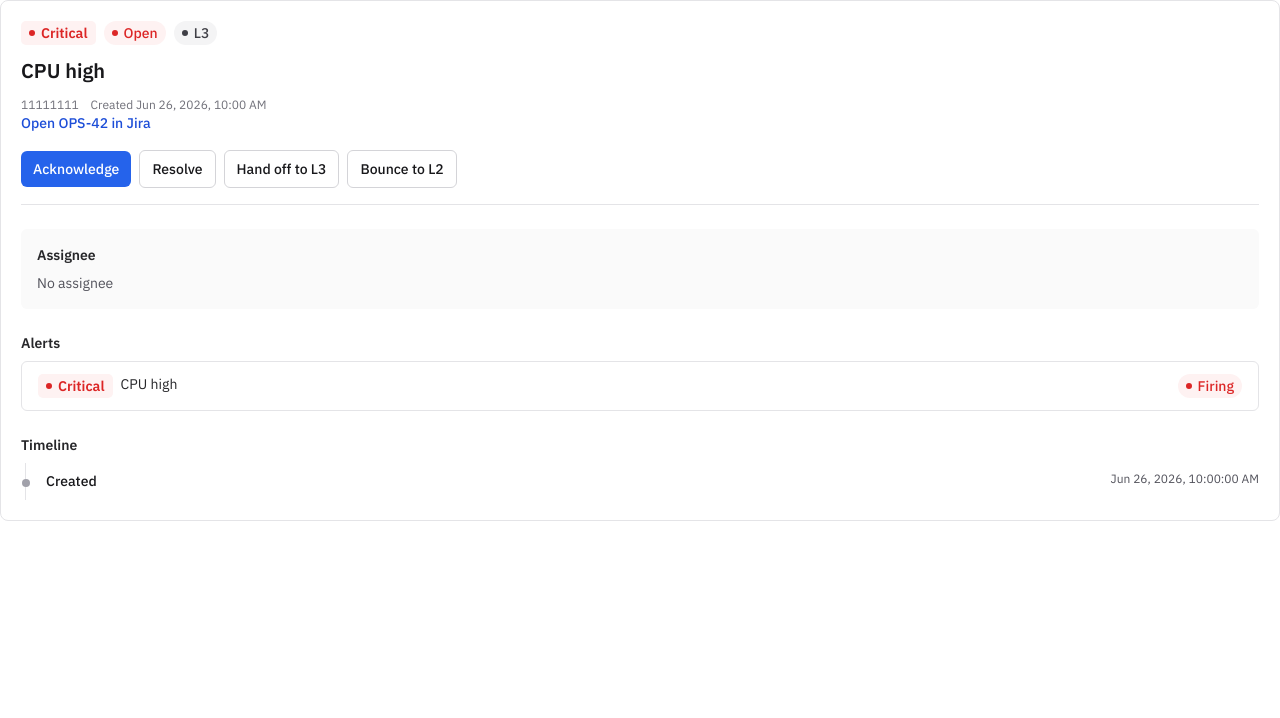
IncidentDetail › shows a failed action and retains the bounce note
Click the button "Bounce to L2" at (402, 169), box [348,150,457,188]
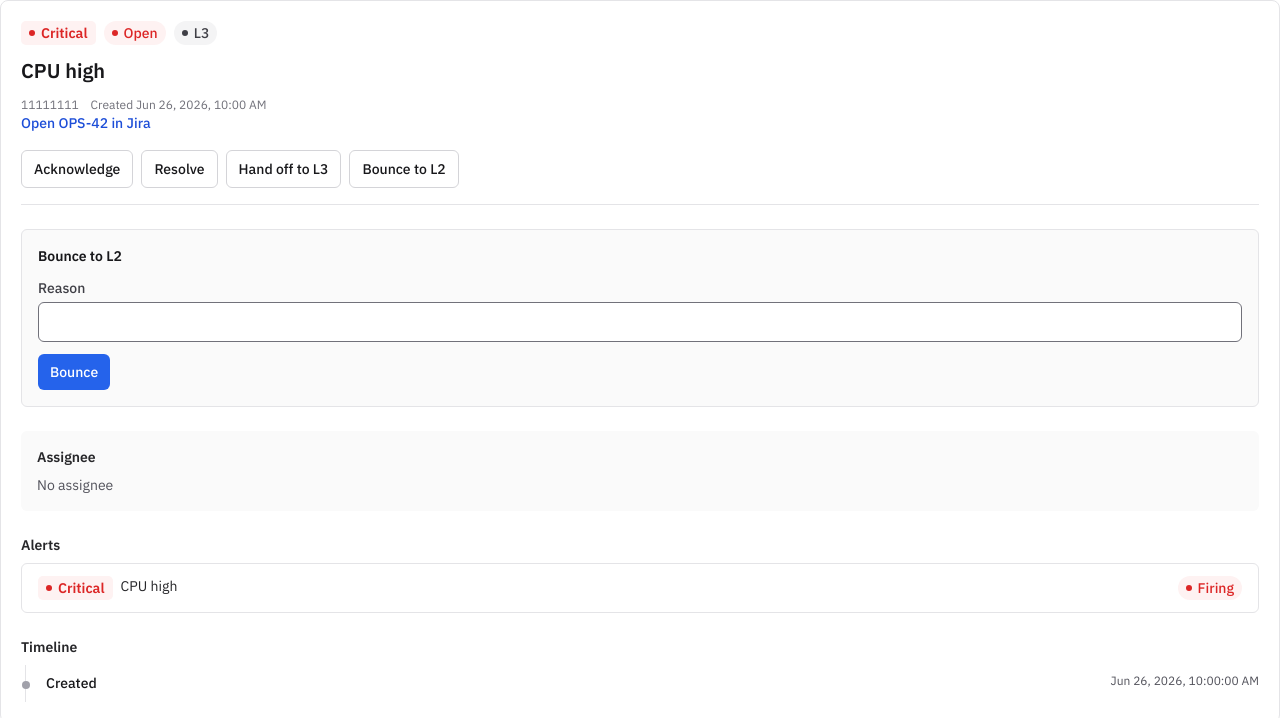
Type "Need more logs" into the field labelled "Reason" at (640, 322), box [38,302,1242,342]
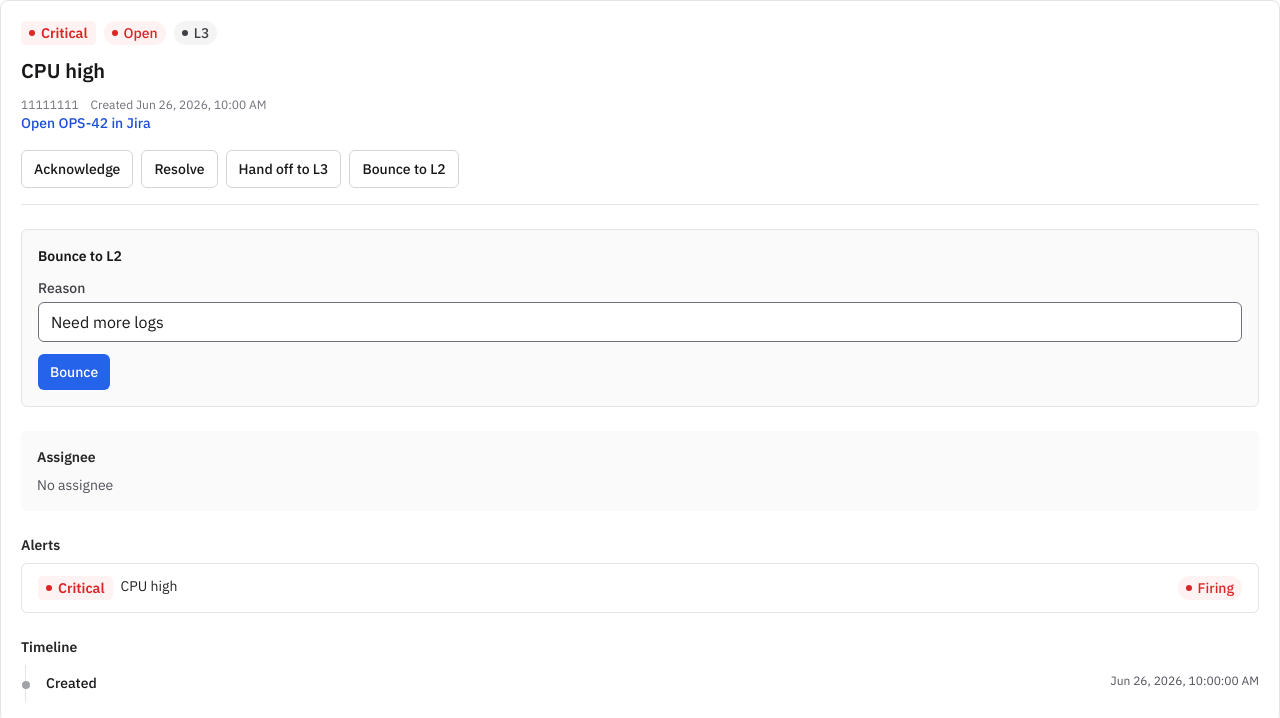
Click the button "Bounce" at (74, 372), box [38,354,110,390]
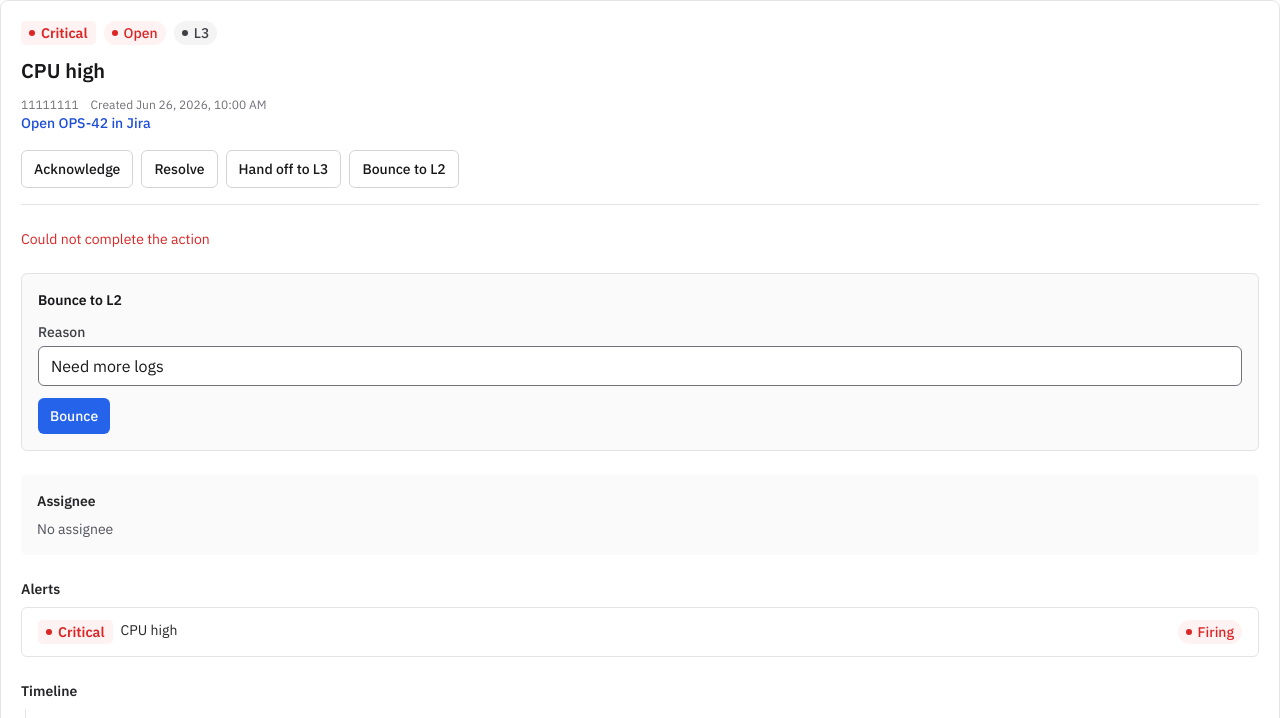
Now the message reads "Could not complete the action", box [21,230,210,248]
